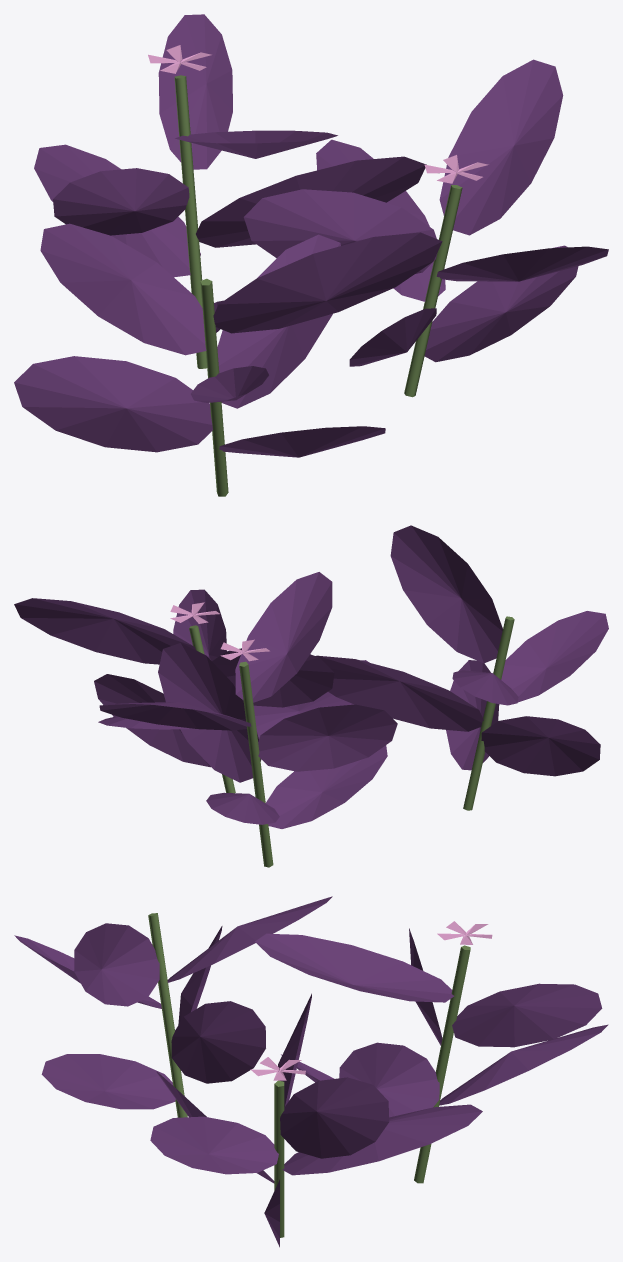
File: tradescantia-pallida.glb
3 renders of one model, top to bottom at view 1: azimuth 30°, elevation 25°; view 2: azimuth 150°, elevation 25°; view 3: azimuth 270°, elevation 25°, orthographic. The views are drawn at different scales.
Visible parts, largest first — view 1: Species leaves, Species stems, Species flowers / bracts; view 2: Species leaves, Species stems, Species flowers / bracts; view 3: Species leaves, Species stems, Species flowers / bracts.
Part boxes in pixels (left/top/right/bottom): Species leaves: left=14, top=14, right=608, bottom=457; Species stems: left=174, top=75, right=462, bottom=496; Species flowers / bracts: left=148, top=45, right=488, bottom=183; Species leaves: left=14, top=525, right=608, bottom=828; Species stems: left=189, top=616, right=514, bottom=867; Species flowers / bracts: left=170, top=602, right=269, bottom=661; Species leaves: left=14, top=896, right=608, bottom=1247; Species stems: left=148, top=913, right=470, bottom=1237; Species flowers / bracts: left=250, top=921, right=492, bottom=1080.
Bounding box in the file's own units: 0.4749 × 0.2074 × 0.4404.
